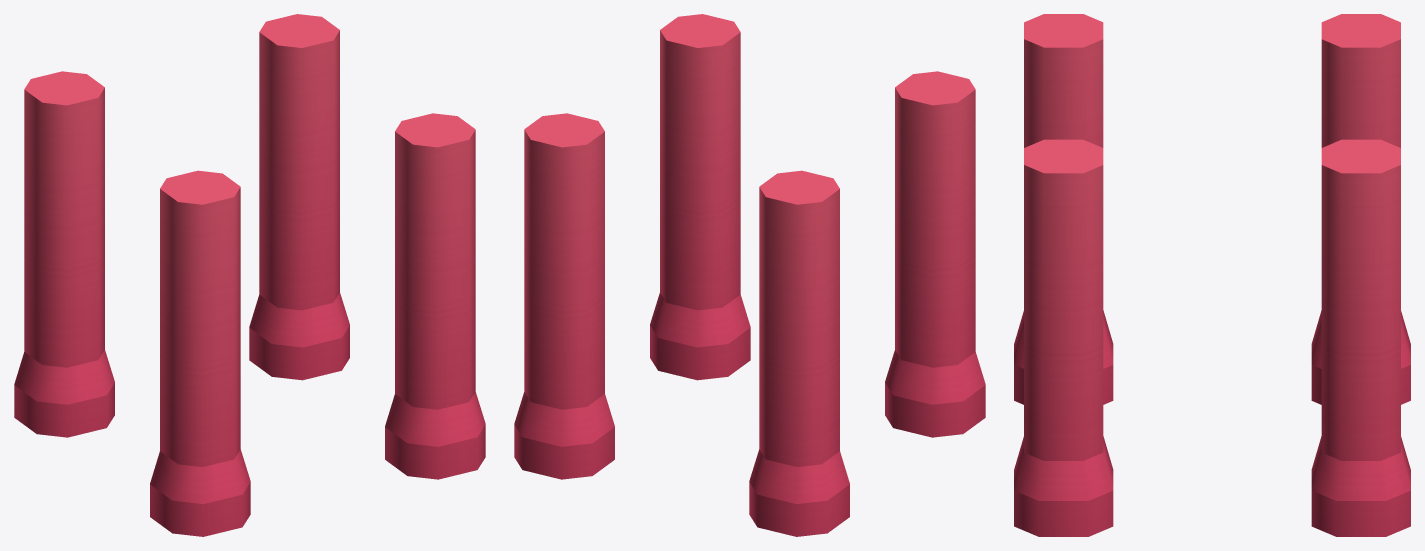
File: supports-bottom.gltf
3 views of the same model, side by side, from view 1: azimuth 30°, elevation 25°; view 2: azimuth 150°, elevation 25°; view 3: azimuth 270°, elevation 25° (orthographic). The views are drawn at different scales.
Parts seen in each view (by area): view 1: supports-bottom; view 2: supports-bottom; view 3: supports-bottom.
Part boxes in pixels (x1,y1,x2,y2): supports-bottom: [14, 14, 485, 536]; supports-bottom: [514, 14, 985, 536]; supports-bottom: [1014, 14, 1410, 536].
Size of the model in its own units: 1 by 1 by 1.
1 material, 1 textured.
